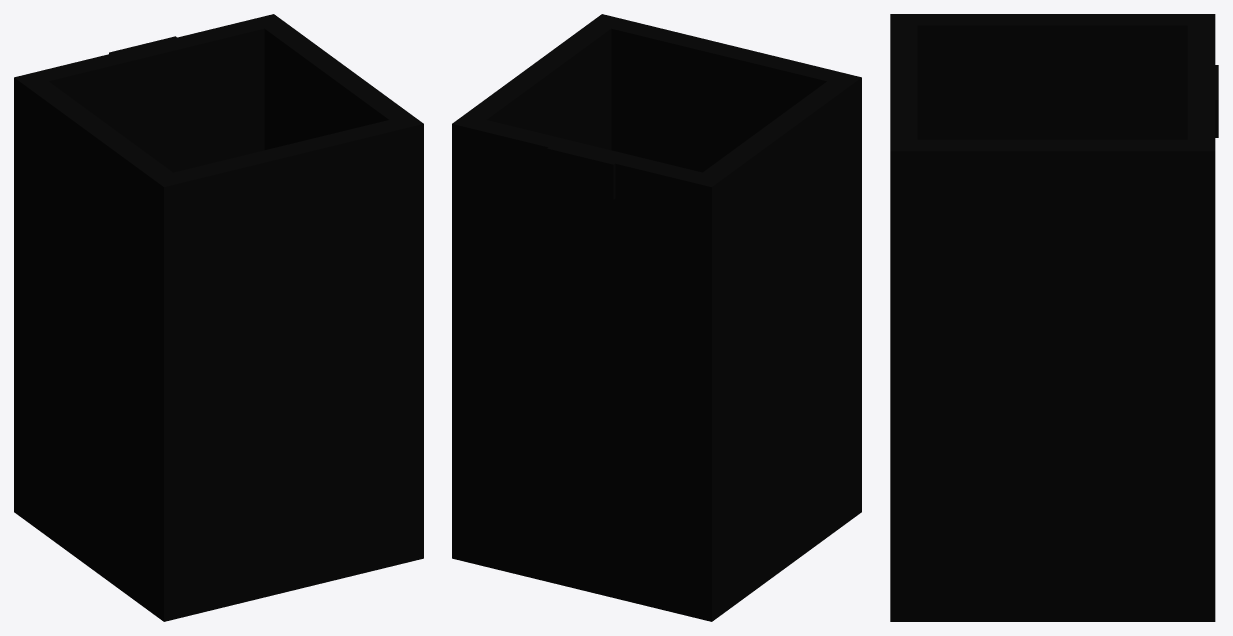
Rendered from Itr_Trashcan2_Body_03.FBX.
The picture shows the model from 3 angles, left to right: view 1: azimuth 30°, elevation 25°; view 2: azimuth 150°, elevation 25°; view 3: azimuth 270°, elevation 25°; orthographic projection. The views are drawn at different scales.
Parts seen in each view (by area): view 1: Itr_Trashcan2_Body_03; view 2: Itr_Trashcan2_Body_03; view 3: Itr_Trashcan2_Body_03.
Boxes of the visible parts, x1,y1,x2,y2 form: Itr_Trashcan2_Body_03: (14,14,423,621); Itr_Trashcan2_Body_03: (452,14,861,621); Itr_Trashcan2_Body_03: (890,14,1218,621).
Size of the model in its own units: 14.85 by 23.74 by 15.01.
